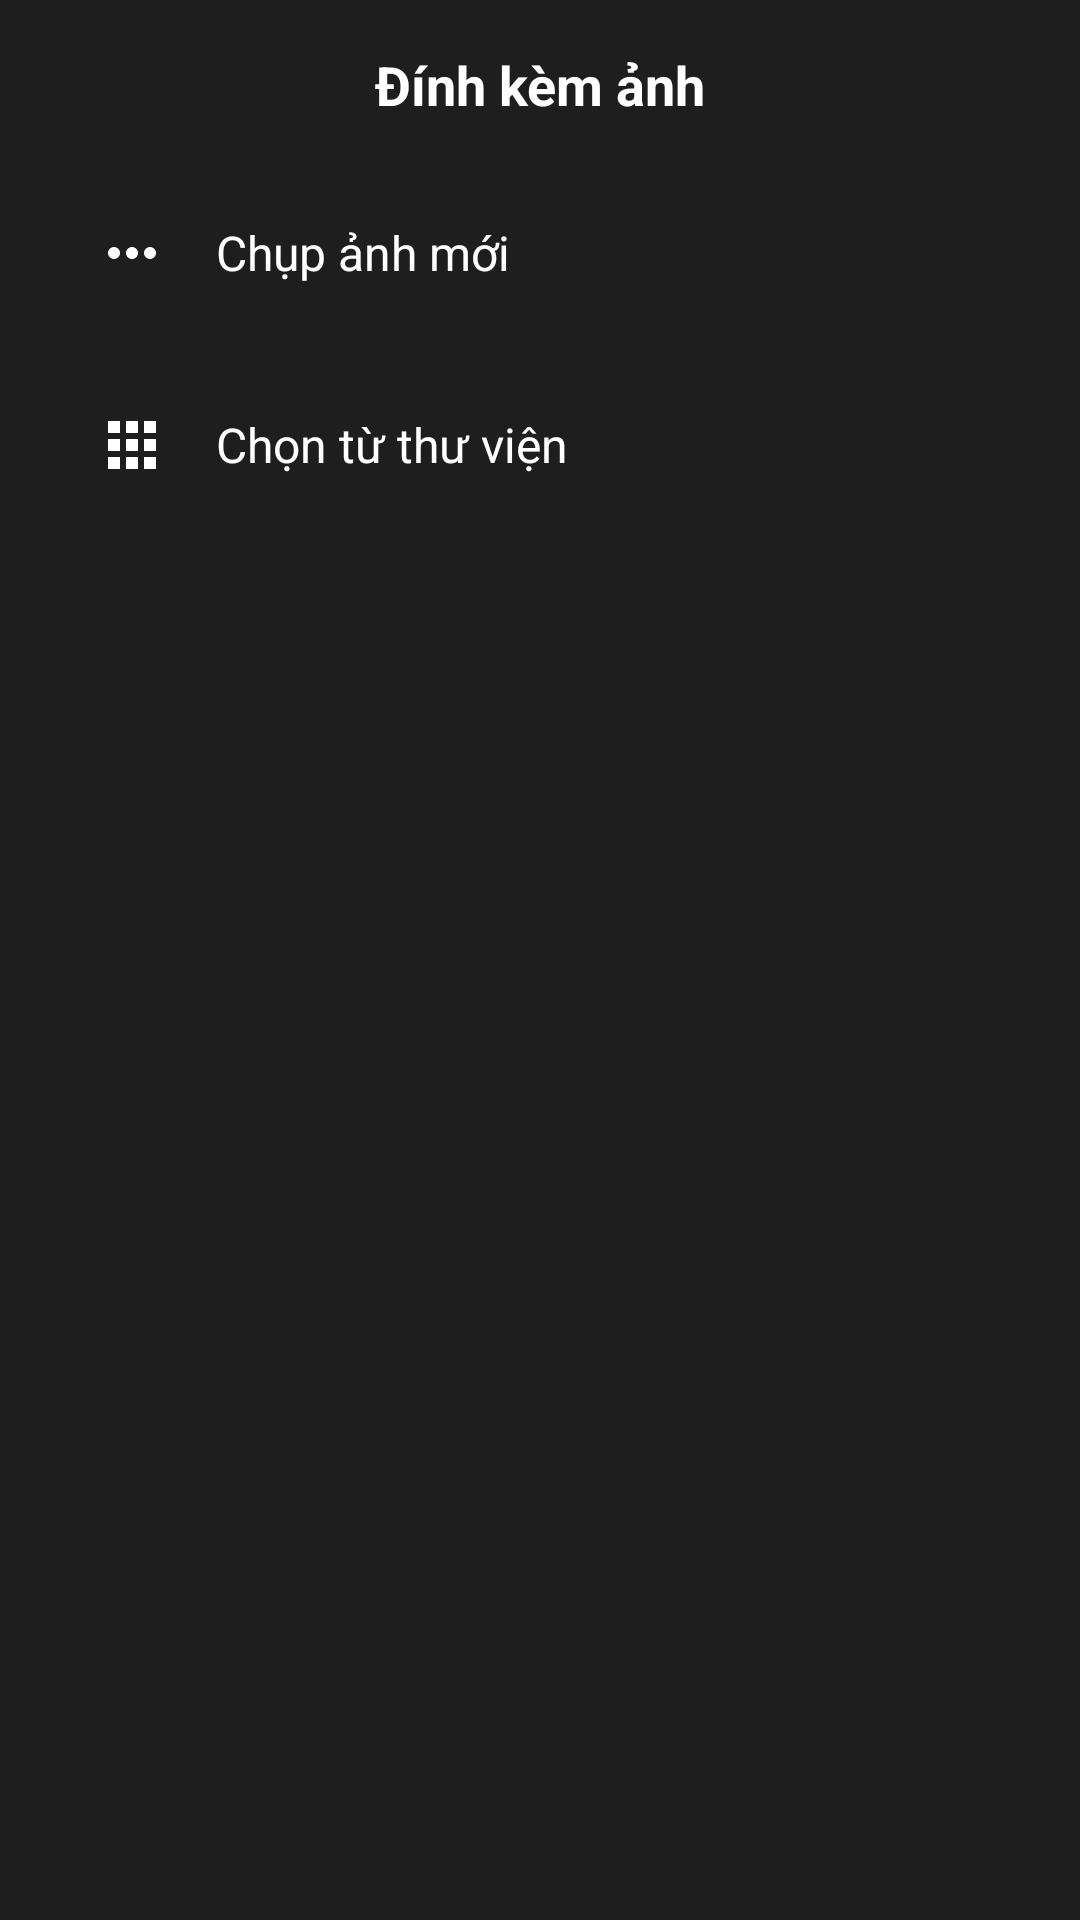

Icon click points for this 1080w x 1920h phone screenshot, format (x,y):
Gallery: (132,445)
